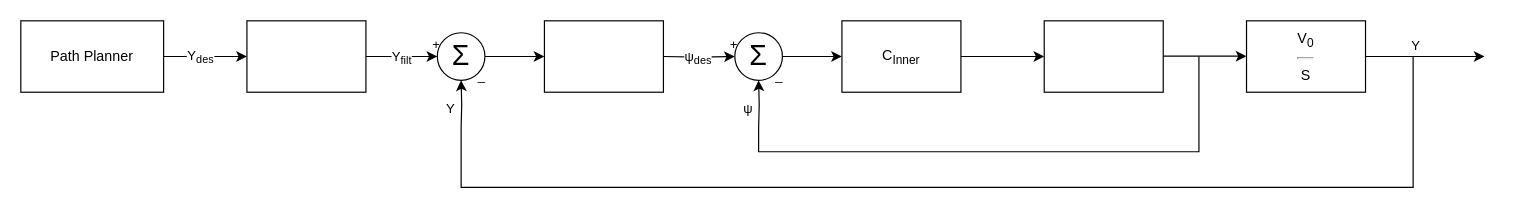
Image size: 1515x209. Some labels were removed from this diagram. The centre of each missing label's shape, as x and y in pixels:
"C Outer" goes at (x=603, y=56).
"Pre Comp" goes at (x=306, y=56).
"V 0 (L) S" goes at (x=1103, y=56).
